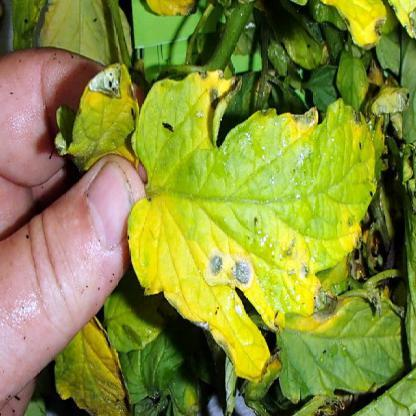Tomato Early blight leaf: (130, 58, 384, 376)
